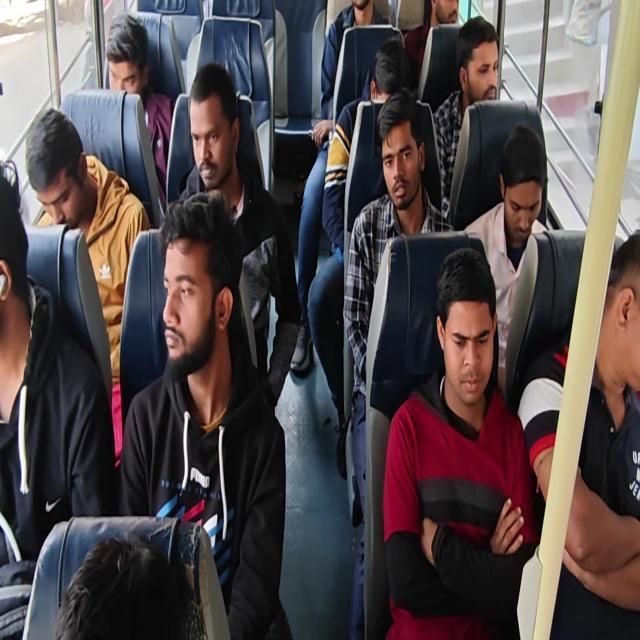person: (151, 219, 221, 371), (19, 119, 102, 231), (438, 262, 491, 402), (598, 232, 640, 404), (0, 148, 32, 358), (96, 6, 156, 112), (500, 143, 550, 253), (184, 72, 231, 189), (373, 110, 422, 210), (460, 20, 505, 112), (370, 45, 414, 132), (428, 0, 471, 36), (349, 0, 373, 18)
